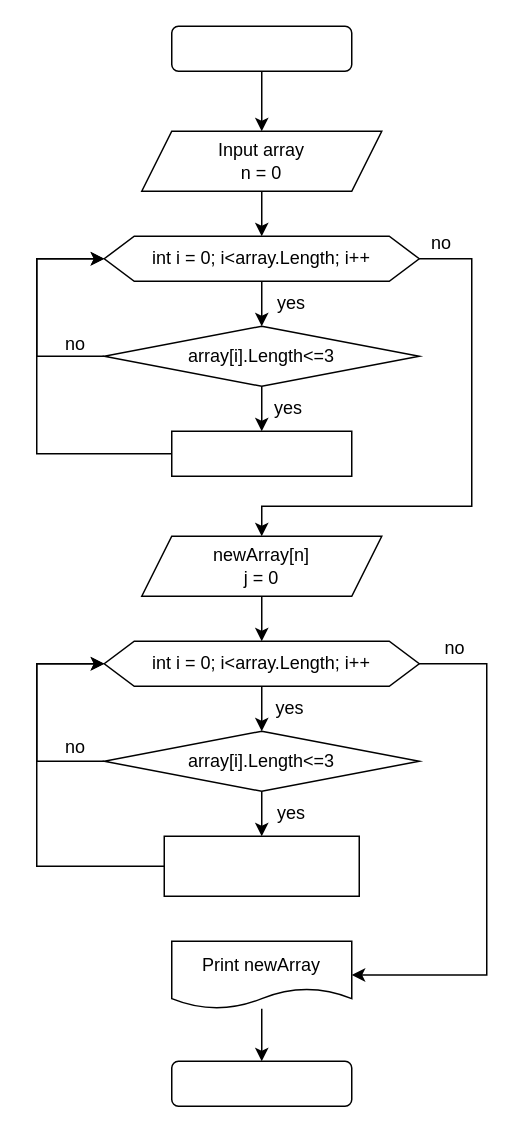
Some shapes in this 527 by 1133 pixel diagram are drawn without their labels. The centre of each missing label's shape, as x and y in pixels:
"end" belongs at point 261,1083.
"n++" belongs at point 261,453.
"newArray[j] = array[i] j++" belongs at point 261,865.
"start" belongs at point 261,48.
